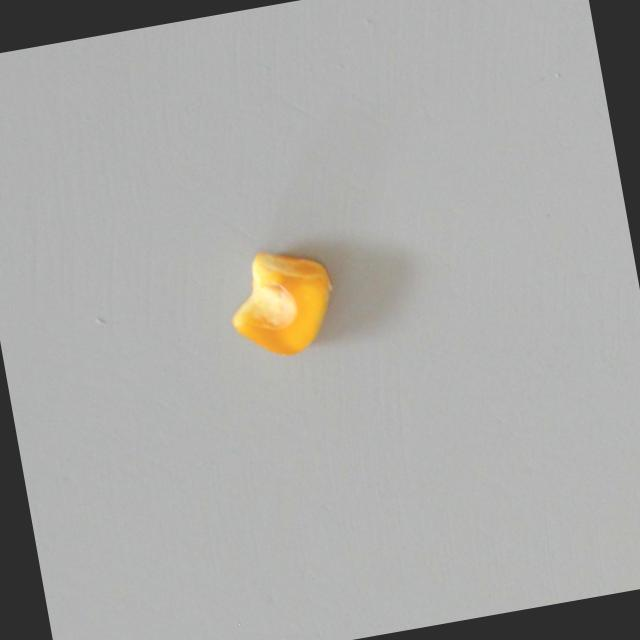pelicula: (218, 238, 344, 365)
